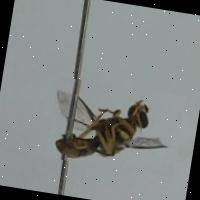Oriental-fruit-fly: (46, 76, 186, 176)
